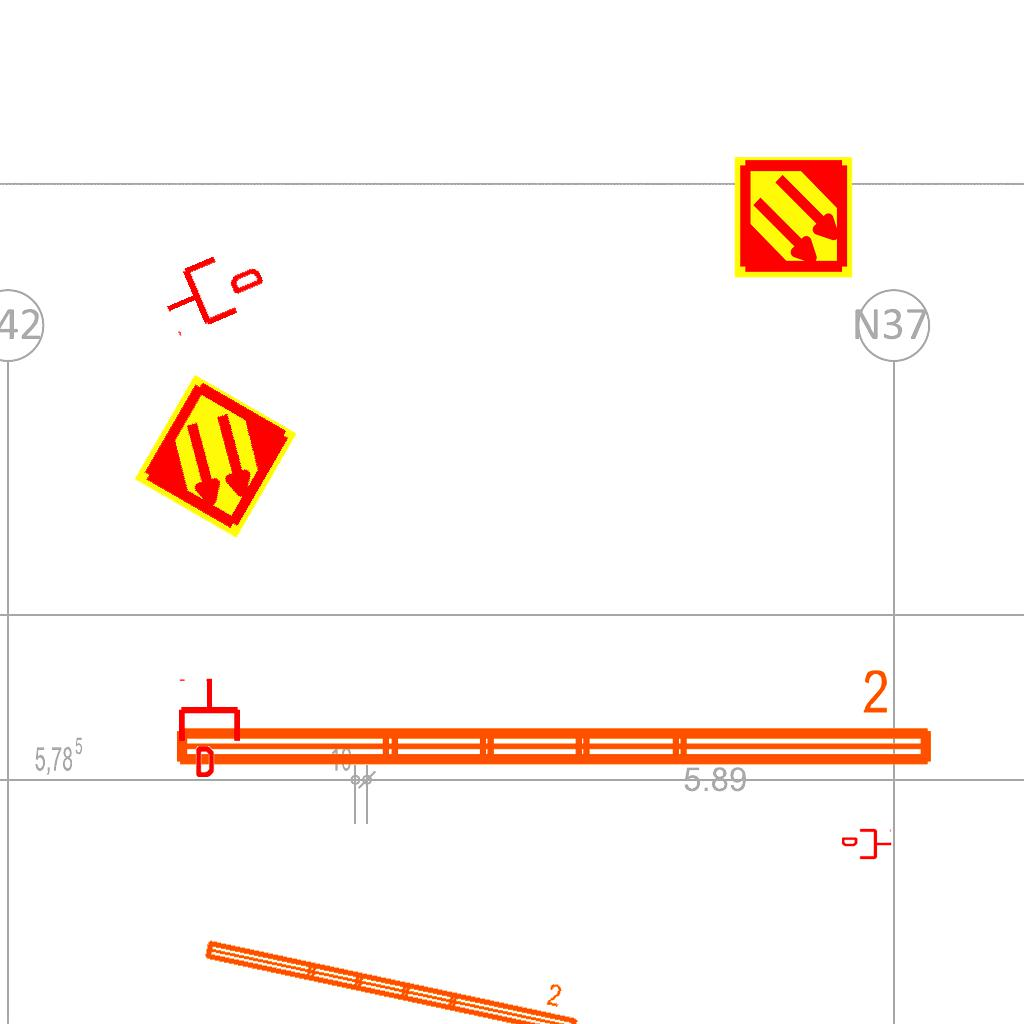ASR_Ansaugrauchmelder: (130, 371, 301, 542), (731, 155, 856, 280)
Ambulanz_Pendelleuchte_LED: (166, 665, 940, 777), (198, 908, 589, 1024)
Datenanschluss_einfach: (152, 238, 273, 342), (175, 677, 244, 777), (842, 827, 892, 861)
